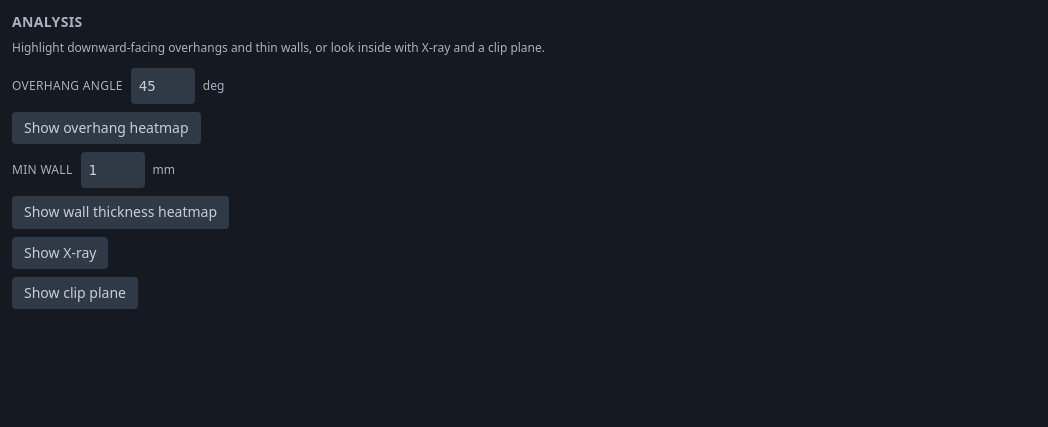
Test: AnalysisSection - inspect (x-ray and clip) › shows the clip controls only while clip is armed
The width and height of the screenshot is (1048, 427).
expect the field labelled "Clip position" is not shown: met
Step 1. Click the button "Show clip plane" → (75, 293), box [12,277,138,309]
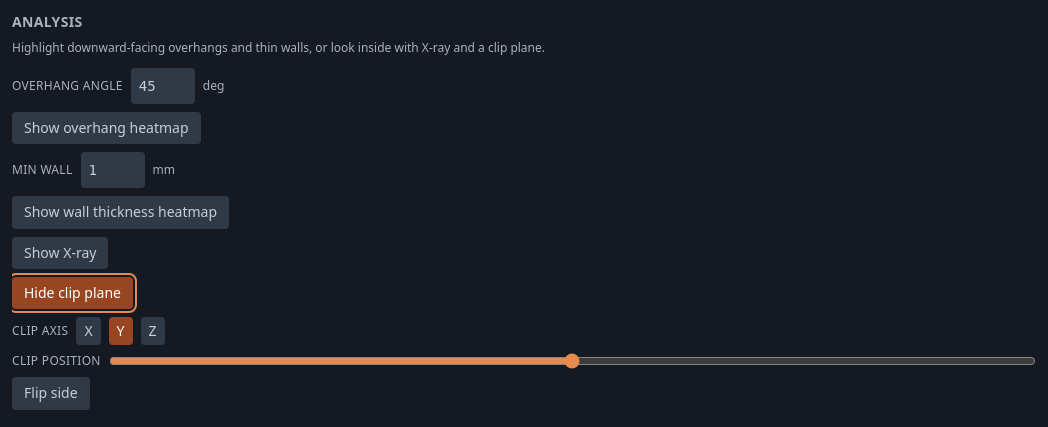
expect the slider named "Clip position" is shown: met, box [109,354,1036,370]
expect the button "X" is shown: met, box [76,317,101,346]
expect the button "Z" is shown: met, box [140,317,164,346]
